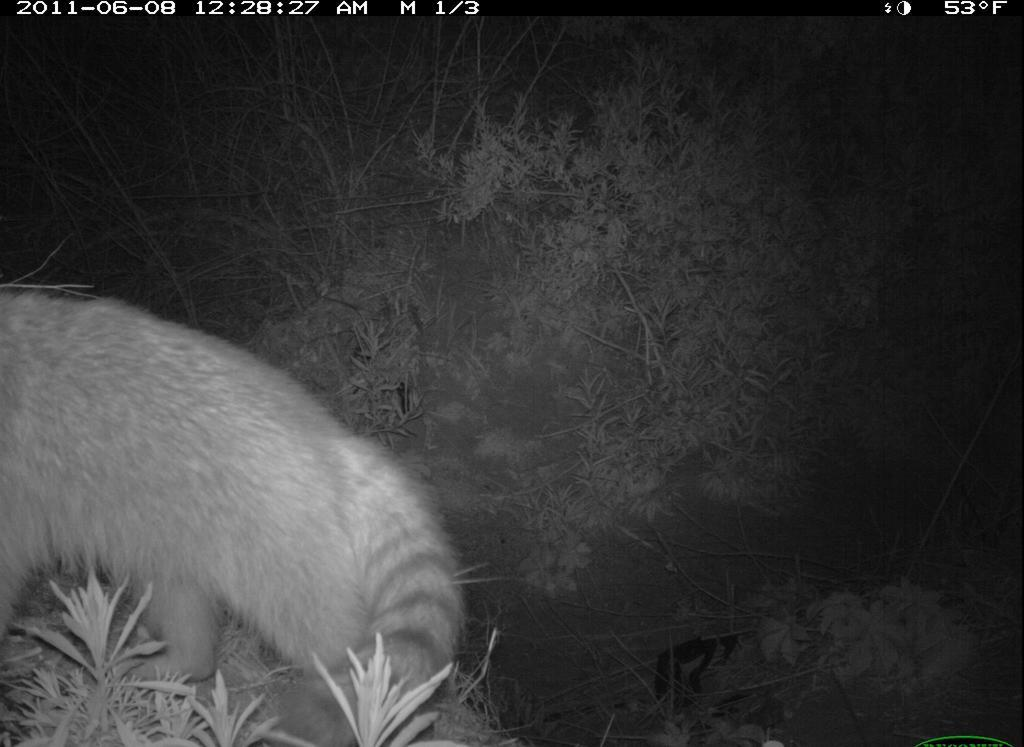raccoon: (4, 291, 475, 747)
